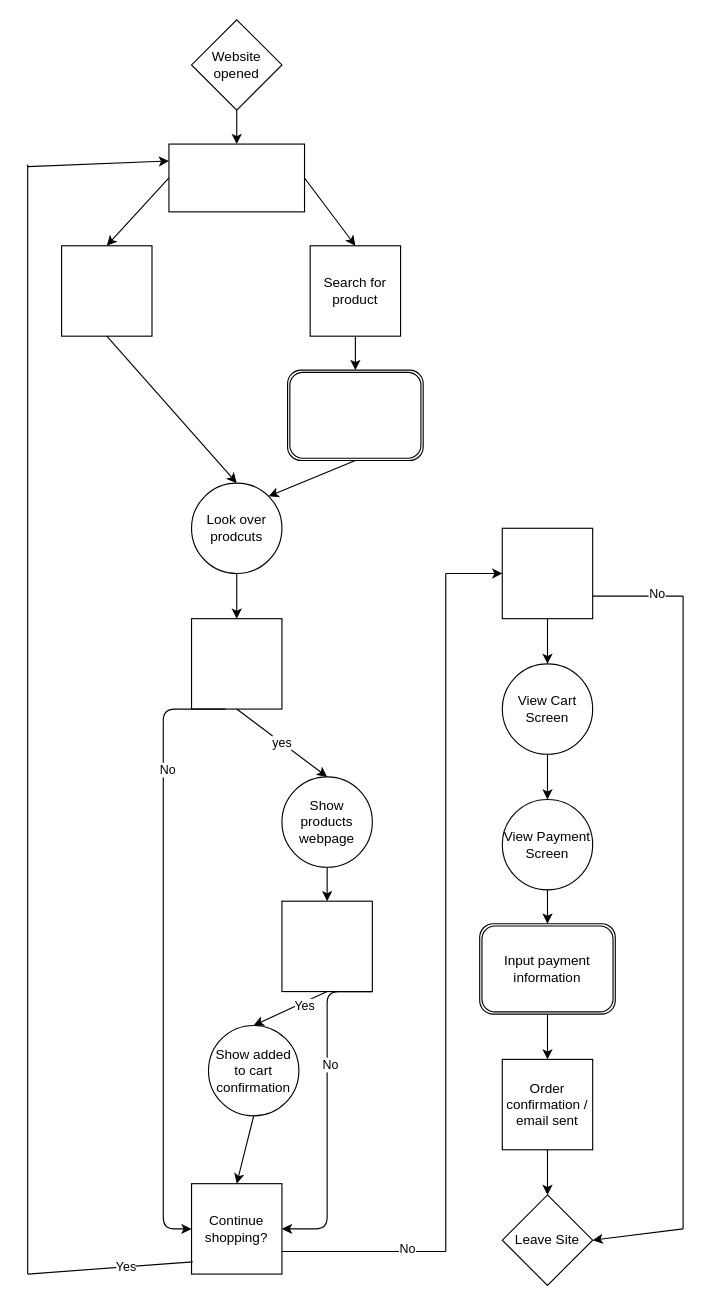
Image size: 712x1305. Some labels were removed from this diagram. Each missing label, with the box of its shape:
Add to cart?: (281, 900, 372, 992)
Checkout?: (501, 527, 593, 619)
Explore products: (60, 245, 152, 336)
Input search query: (286, 369, 423, 460)
View this product?: (190, 618, 282, 709)
